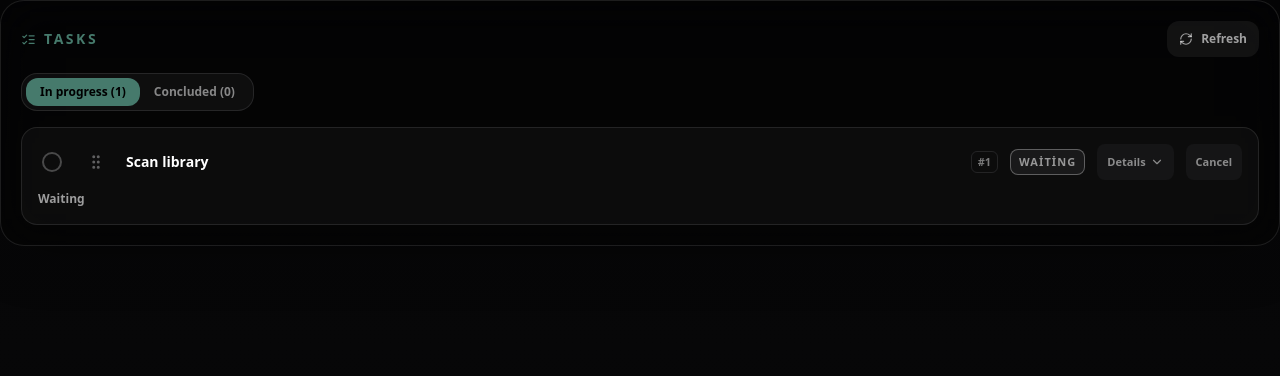
Test: the details of one task › renders no field it has nothing to put in
The image size is (1280, 376).
Expected: the number of list items is 1, x1=21 y1=127 x2=1259 y2=225
Step 1. Click the button with aria-label "Show details" → (1136, 162), box x1=1097 y1=144 x2=1174 y2=180
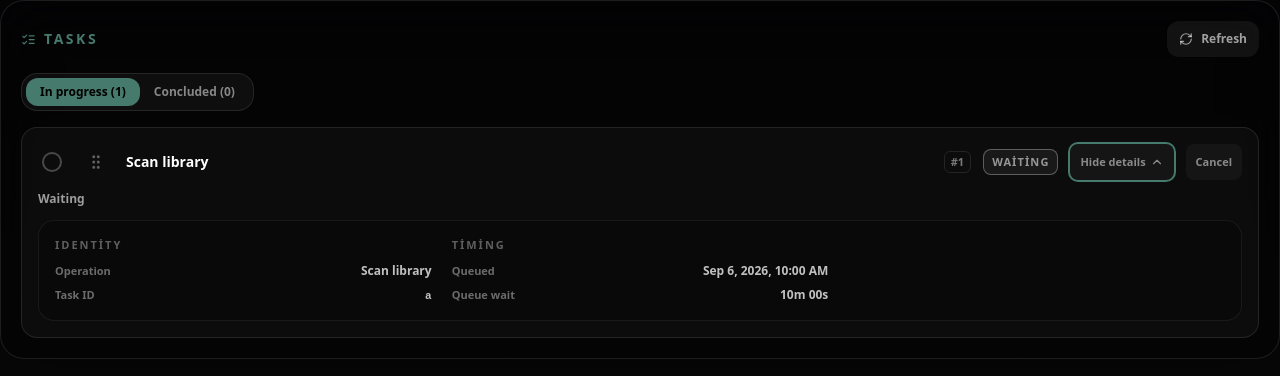
Now the text "Queued" is shown, box x1=452 y1=262 x2=495 y2=279
